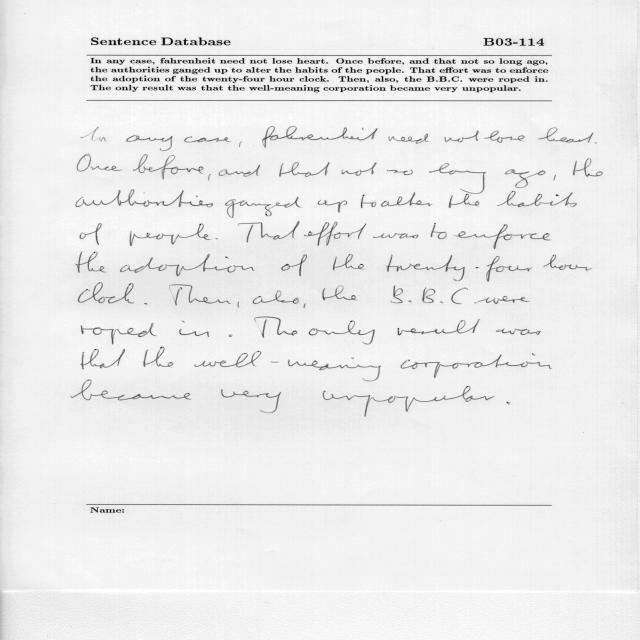word: (194, 351, 381, 381), (323, 386, 494, 417), (386, 255, 532, 282), (401, 353, 553, 378), (120, 254, 255, 276), (454, 224, 551, 249), (262, 127, 377, 148), (71, 380, 191, 400), (76, 190, 213, 207), (130, 223, 211, 246), (133, 154, 203, 180), (429, 163, 486, 194), (391, 285, 476, 304), (225, 197, 301, 218), (309, 321, 375, 345), (81, 323, 156, 344), (304, 222, 366, 246), (221, 389, 281, 413), (398, 319, 480, 336), (238, 221, 300, 243), (169, 285, 231, 306), (497, 191, 577, 207), (78, 283, 134, 304), (255, 317, 298, 338), (81, 349, 125, 369), (538, 128, 593, 143), (78, 154, 123, 172), (543, 255, 592, 271), (505, 169, 546, 188), (279, 162, 330, 177), (381, 192, 432, 207), (126, 135, 172, 151), (252, 290, 299, 304), (76, 252, 105, 273), (144, 347, 174, 367), (573, 158, 603, 177), (281, 255, 307, 276), (484, 130, 525, 143), (322, 286, 357, 301), (180, 320, 210, 337), (219, 165, 261, 177), (333, 254, 364, 270), (342, 162, 377, 176), (80, 223, 102, 245), (449, 193, 479, 208), (389, 133, 429, 144), (444, 131, 479, 143), (477, 296, 529, 304), (318, 200, 347, 212), (184, 136, 231, 143), (496, 328, 541, 335), (431, 223, 447, 239), (373, 233, 419, 238), (92, 127, 107, 142), (361, 194, 376, 208), (387, 170, 413, 175), (208, 174, 211, 181), (239, 142, 242, 148), (553, 175, 556, 181), (304, 303, 306, 308), (229, 334, 232, 337), (144, 303, 148, 305), (507, 402, 511, 404), (238, 302, 239, 308), (595, 142, 597, 144), (215, 238, 218, 239)
